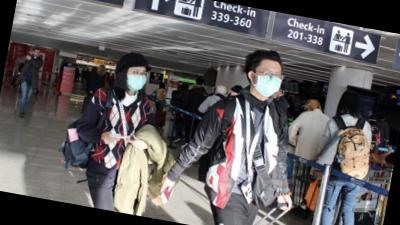with_mask: (253, 67, 284, 100), (125, 67, 149, 94)
without_mask: (34, 51, 41, 57)
